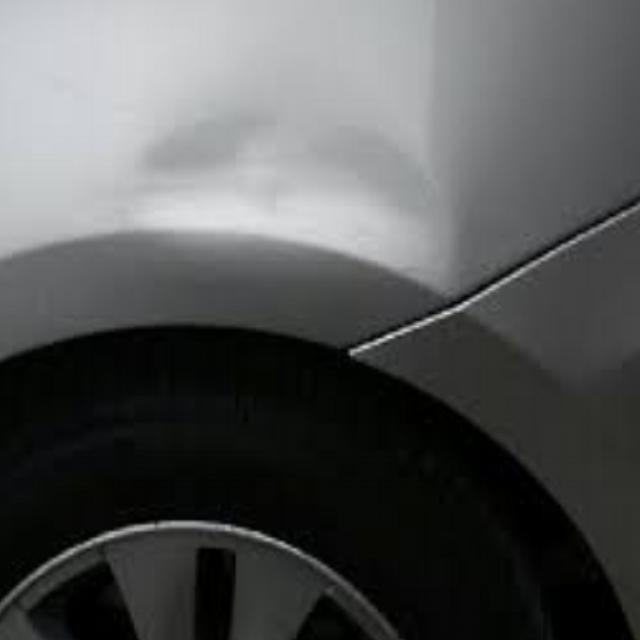dents: (109, 104, 466, 308)
